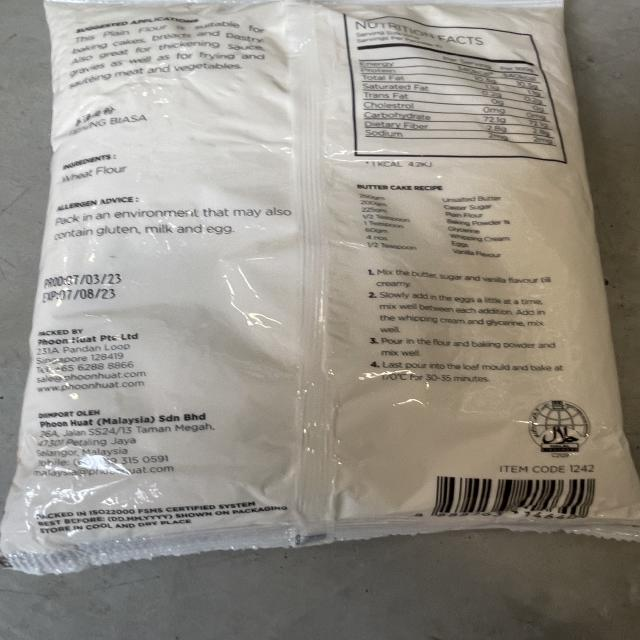object_name: (44, 5, 606, 536)
